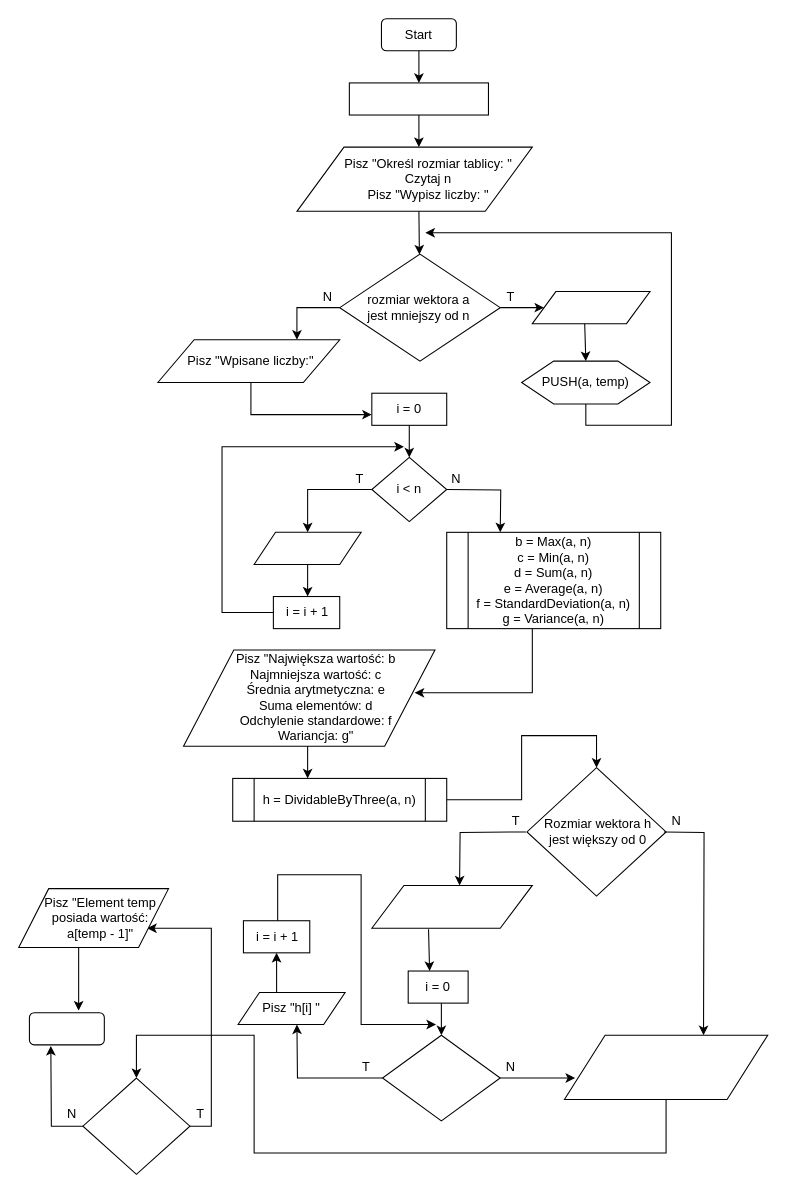
The diagram is 786 pixels wide and 1193 high, and some of its shapes have lost their labels. Each missing label, with the box of its shape:
Czytaj temp: (531, 291, 650, 324)
i < rozmiar wektora h: (381, 1034, 500, 1121)
Pisz "a[i] ": (253, 531, 361, 564)
Pisz "Liczby podzielne przez 3: ": (371, 884, 532, 928)
Pisz "Podaj numer elementu tablicy aby wyswietlić jego wartość: " Czytaj temp: (563, 1034, 768, 1099)
Stop: (28, 1012, 104, 1045)
temp > 0 i temp <= n: (82, 1077, 190, 1174)
Zainicjuj wektor a: (348, 82, 488, 115)
